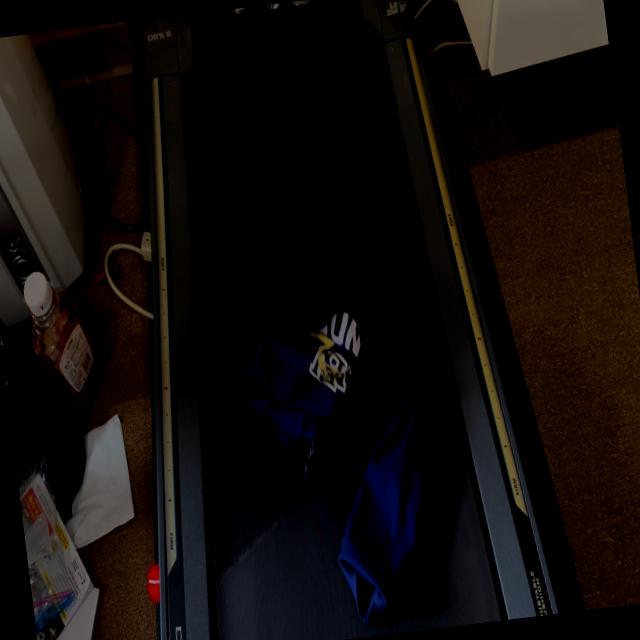Trash: (178, 193, 478, 640)
